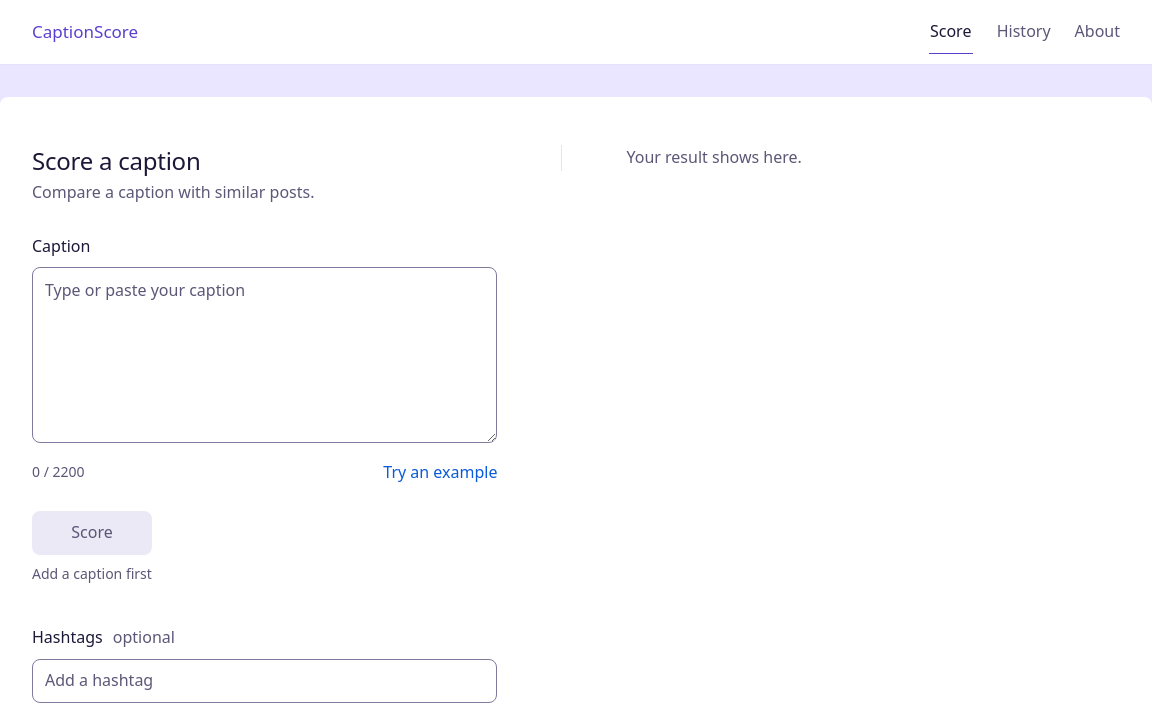
Test: Score page › shows why the Score button is disabled, then enables it
Expected: the button "Score" is disabled, [32,510,152,554]
Expected: the text "Add a caption first" is shown, [32,564,152,582]
In the text box labelled "Caption": (265, 355) [32,267,498,443], type "hello"
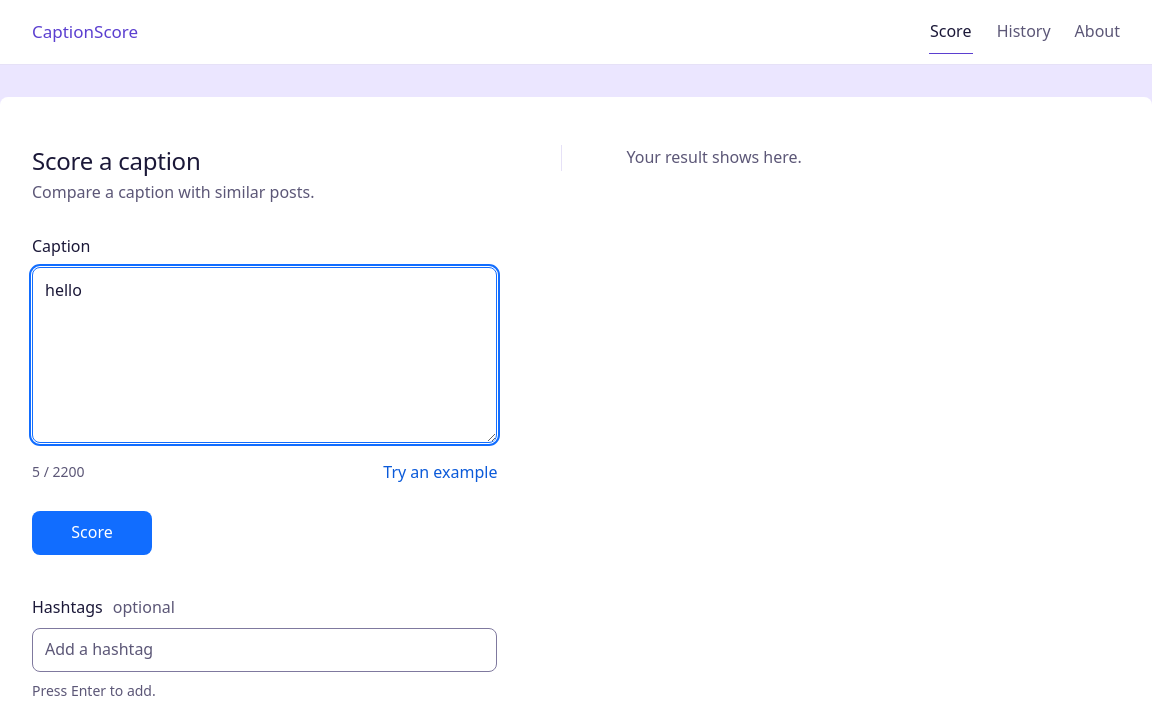
Result: the button "Score" is enabled at [32,510,152,554]
Result: the text "Add a caption first" is gone
